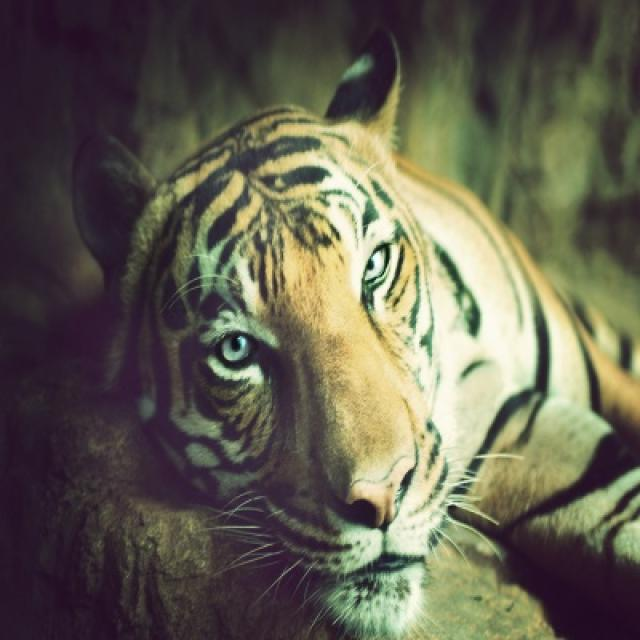Tiger: (74, 30, 638, 638)
